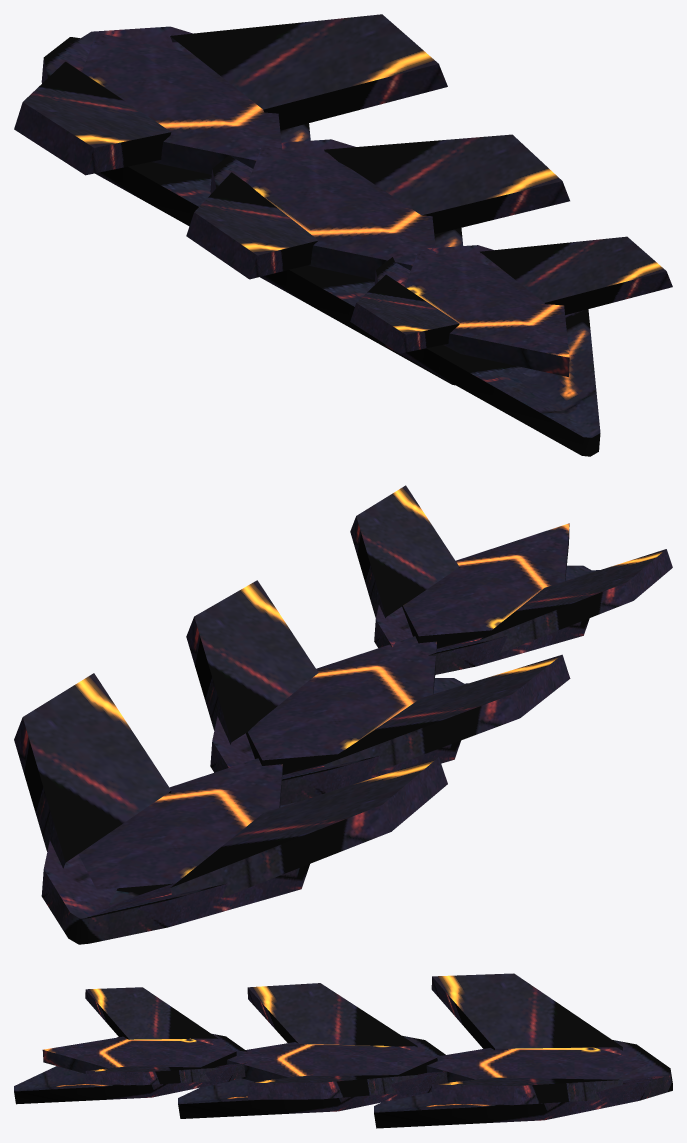
Rendered from ship16h.fbx.
The picture shows the model from 3 angles, top to bottom: view 1: azimuth 30°, elevation 25°; view 2: azimuth 150°, elevation 25°; view 3: azimuth 270°, elevation 25°; orthographic projection. The views are drawn at different scales.
Parts seen in each view (by area): view 1: PipelineFBX; view 2: PipelineFBX; view 3: PipelineFBX.
Part boxes in pixels (box(x1,y1,x2,y2)): PipelineFBX: box(14, 14, 672, 456); PipelineFBX: box(14, 485, 672, 944); PipelineFBX: box(14, 973, 672, 1128).
Size of the model in its own units: 96.5 by 37.21 by 227.
Materials: 1 (1 with a texture image).
